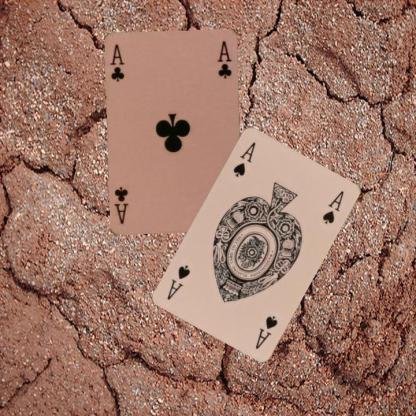Ac: (107, 42, 126, 83)
As: (230, 139, 257, 178), (253, 313, 279, 350)
